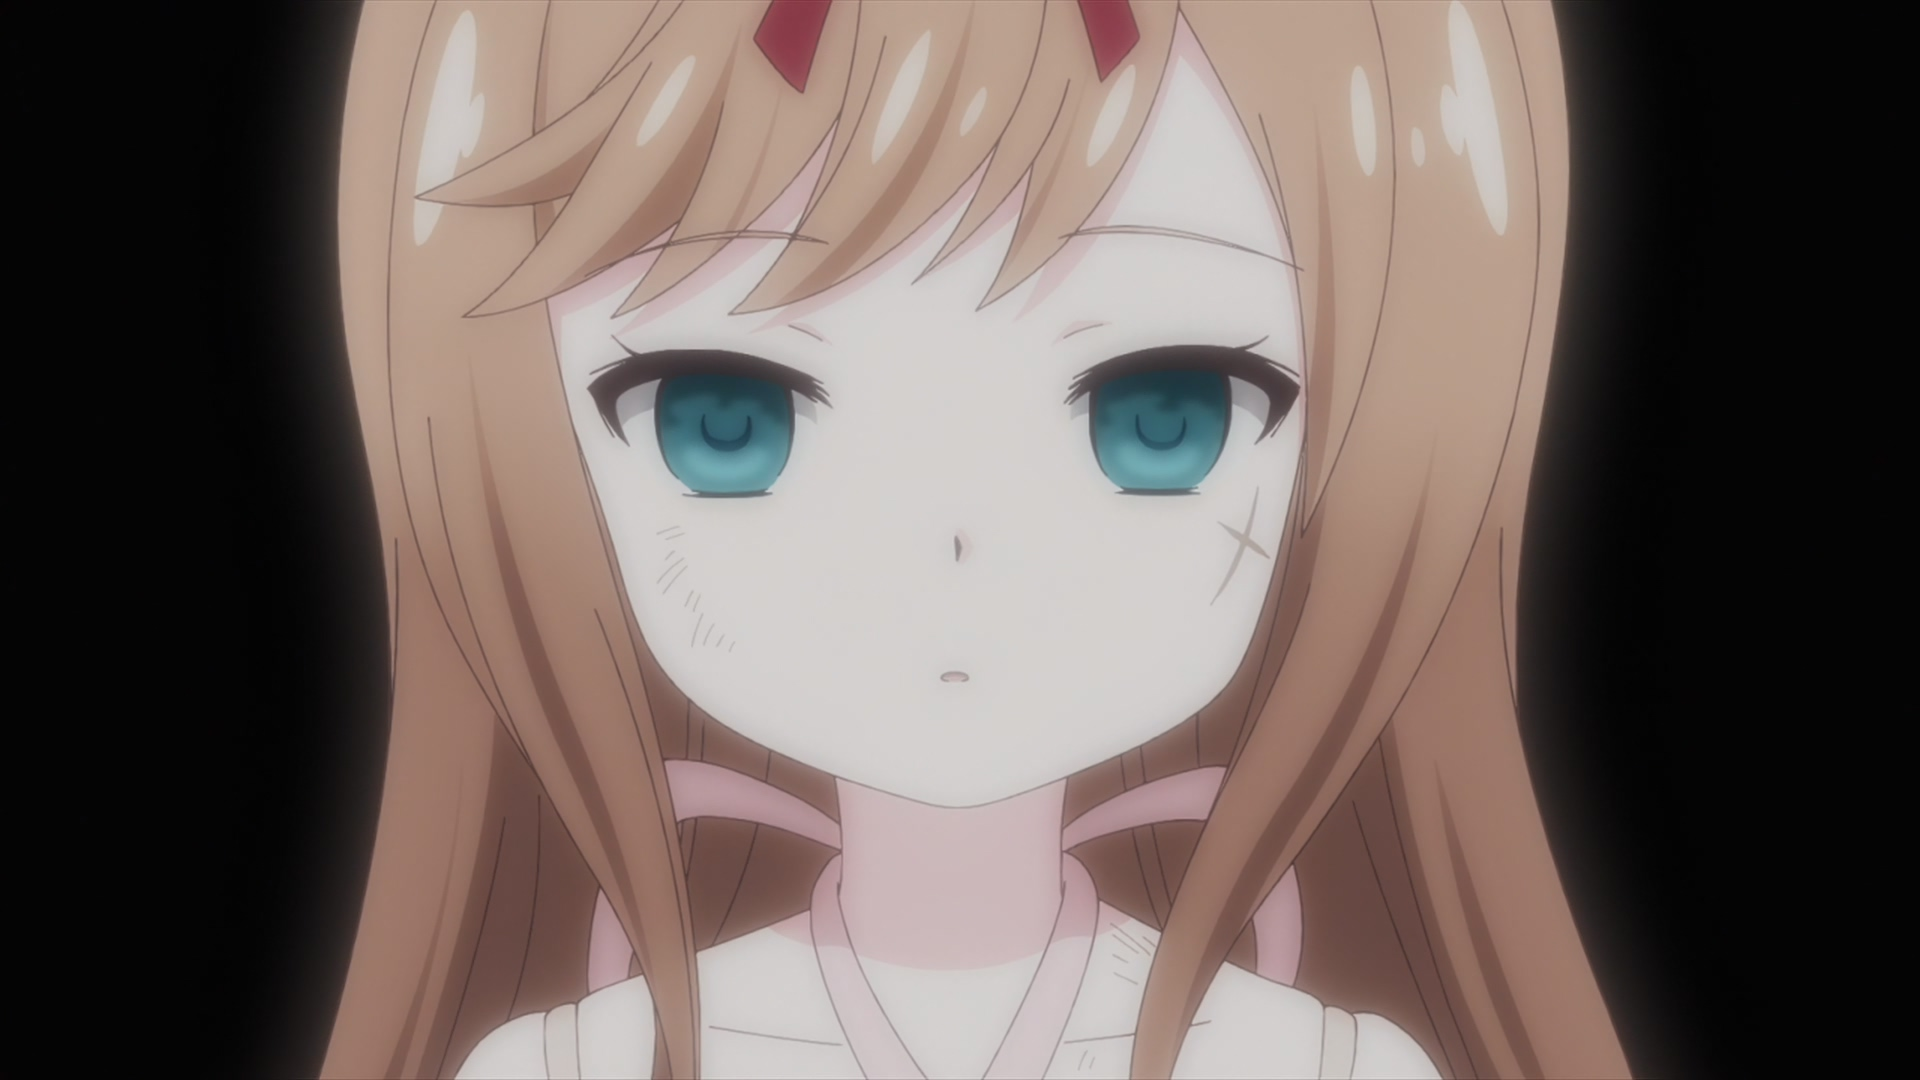其他: (318, 1, 1633, 1080)
